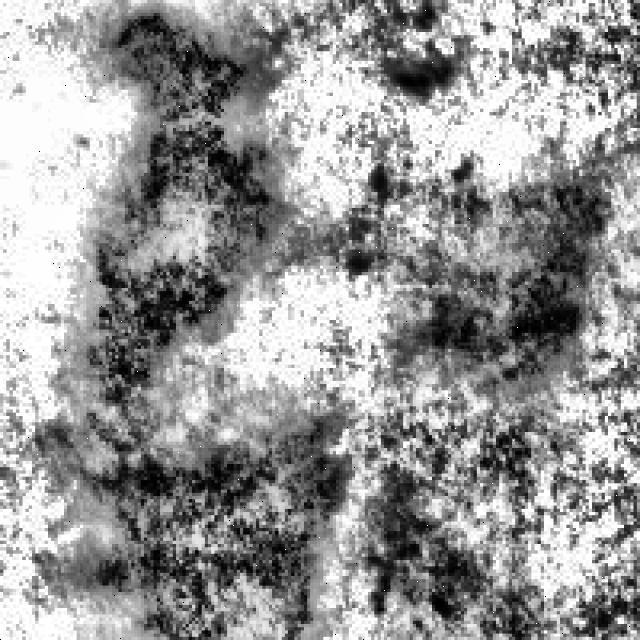Scratches: (77, 0, 301, 445), (70, 406, 352, 637), (426, 224, 604, 390)
